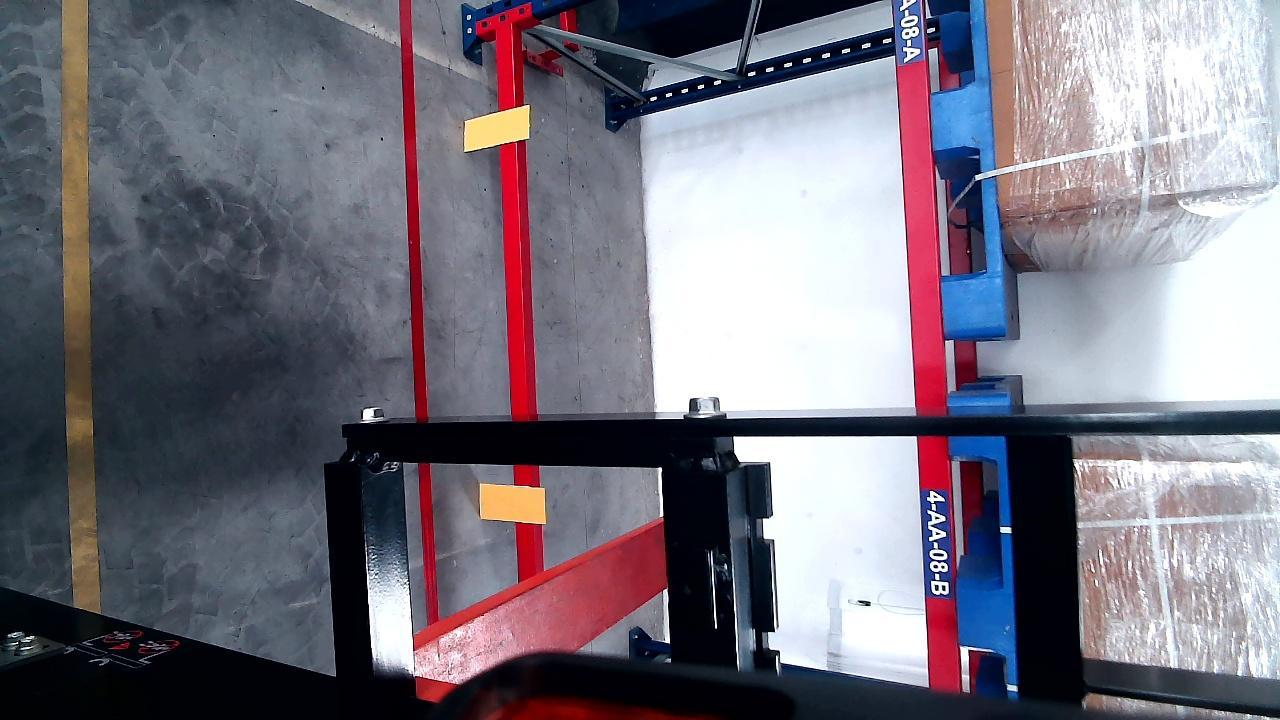red_line: (398, 0, 432, 420)
yellow_line: (59, 0, 100, 614)
